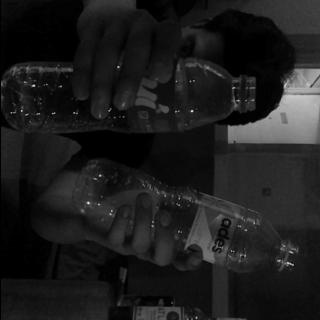plastic_bottles: (72, 158, 296, 274), (3, 60, 259, 132)
